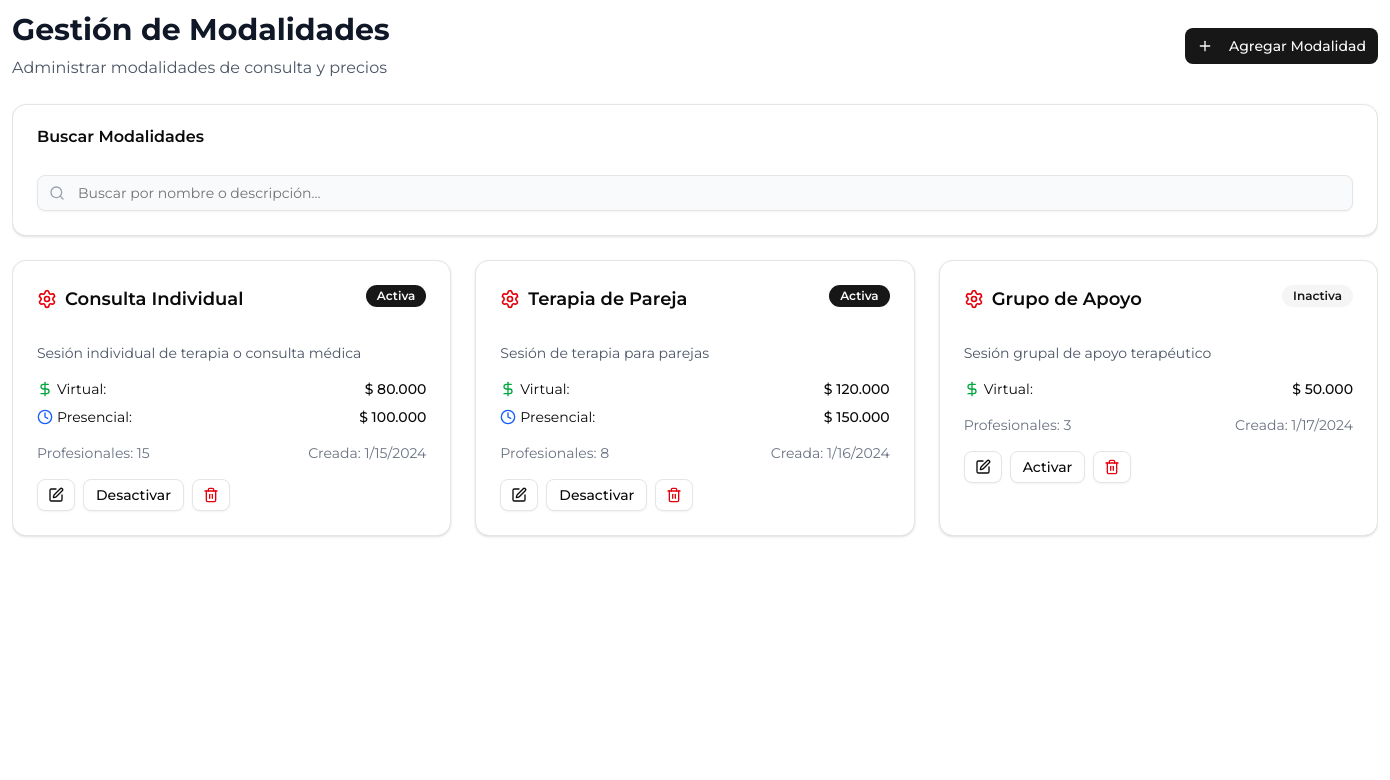
AdminModalities › should show empty state when no modalities match search
Expected: the text "Consulta Individual" is shown, [65,285,243,313]
Step 1. Type "NonExistent" into the field with placeholder "Buscar por nombre o descripción..." → [695, 193], box [37,175,1353,211]
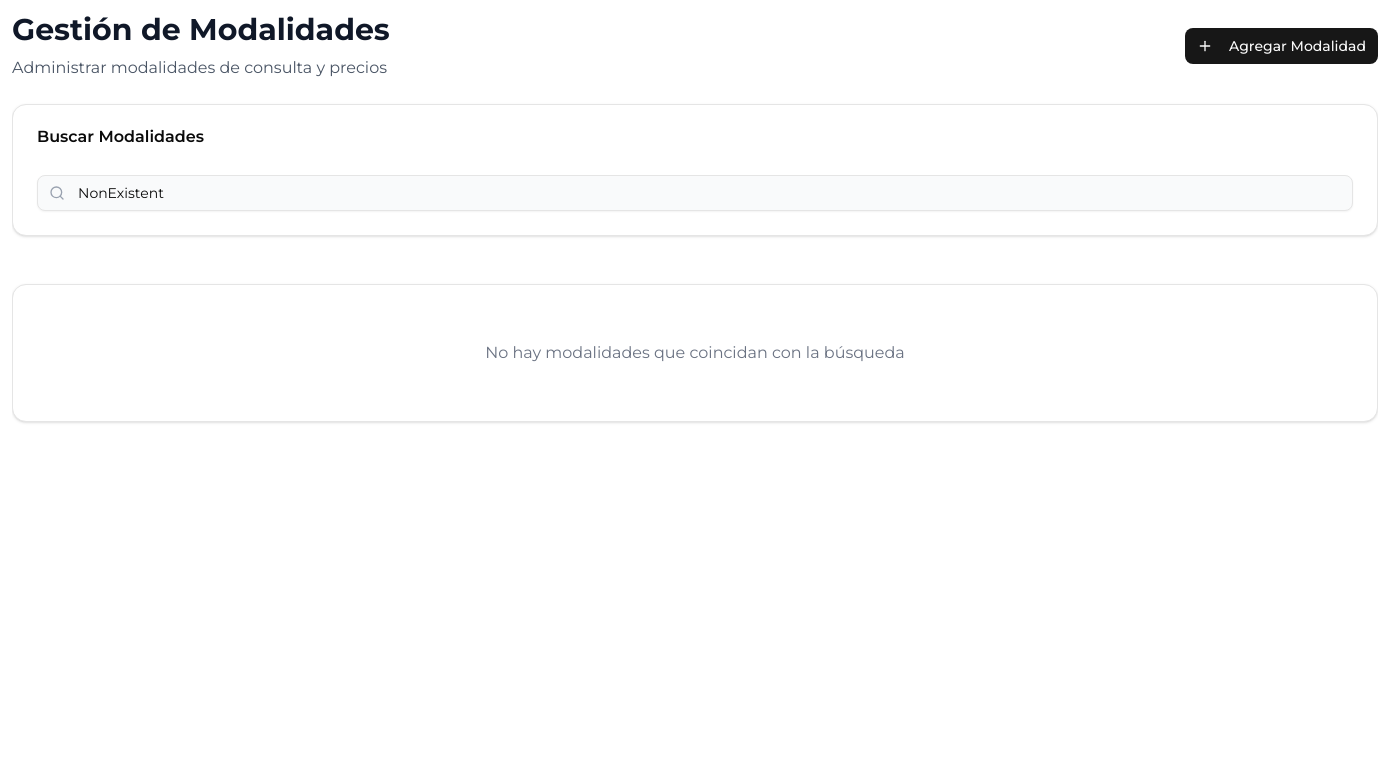
Result: the text "No hay modalidades que coincidan con la búsqueda" is shown at [485,343,905,362]
